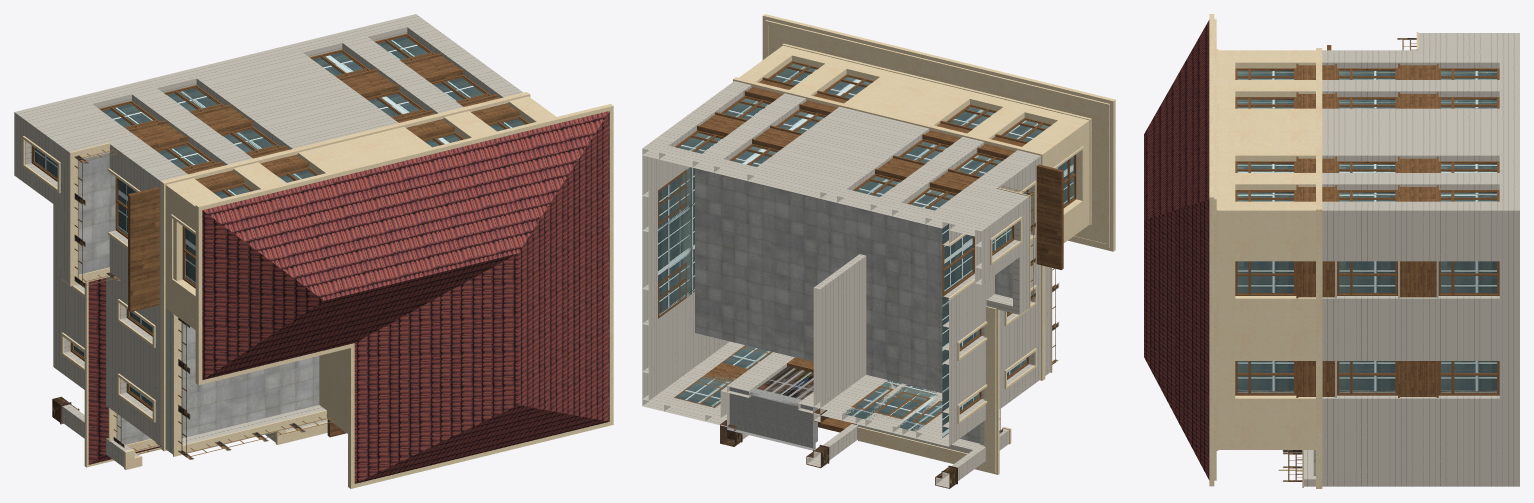
The model's file is JPMS01.gltf.
3 views of the same model, side by side, from view 1: azimuth 30°, elevation 25°; view 2: azimuth 150°, elevation 25°; view 3: azimuth 270°, elevation 25° (orthographic). The views are drawn at different scales.
Parts seen in each view (by area): view 1: Obj3d66_1295267_489_008; view 2: Obj3d66_1295267_489_008; view 3: Obj3d66_1295267_489_008.
Boxes of the visible parts, x1,y1,x2,y2 form: Obj3d66_1295267_489_008: (14, 14, 613, 488); Obj3d66_1295267_489_008: (642, 14, 1115, 488); Obj3d66_1295267_489_008: (1144, 14, 1519, 488).
Bounding box in the file's own units: 13.26 × 10.46 × 11.09.
Materials: 11 (11 with a texture image).
